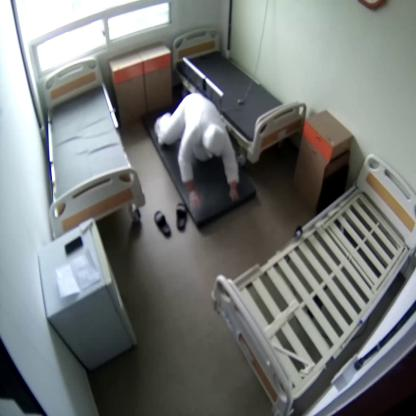Bed: (172, 28, 307, 164)
Person: (152, 94, 239, 210)
